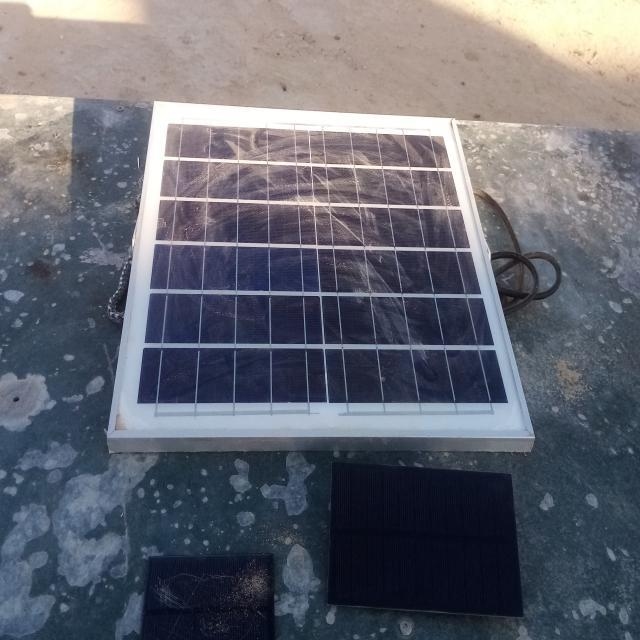faulty: (111, 98, 535, 441), (138, 554, 269, 640)
no faulty: (329, 468, 520, 611)
